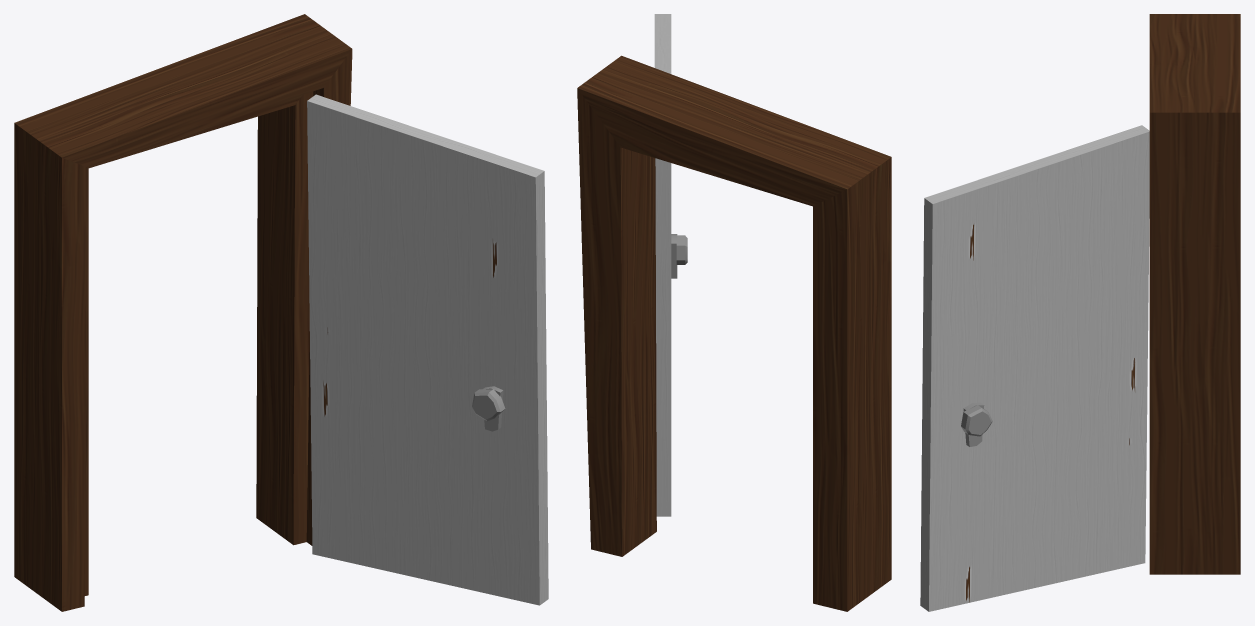
Rendered from DoorOPen.fbx.
3 renders of one model, left to right at view 1: azimuth 30°, elevation 25°; view 2: azimuth 150°, elevation 25°; view 3: azimuth 270°, elevation 25°, orthographic. The views are drawn at different scales.
Parts seen in each view (by area): view 1: OpenDoor; view 2: OpenDoor; view 3: OpenDoor.
Part boxes in pixels (x1=…): OpenDoor: x1=14, y1=14, x2=548, y2=611; OpenDoor: x1=577, y1=14, x2=891, y2=611; OpenDoor: x1=920, y1=14, x2=1240, y2=611.
Bounding box in the file's own units: 17896 × 22704 × 14051.
